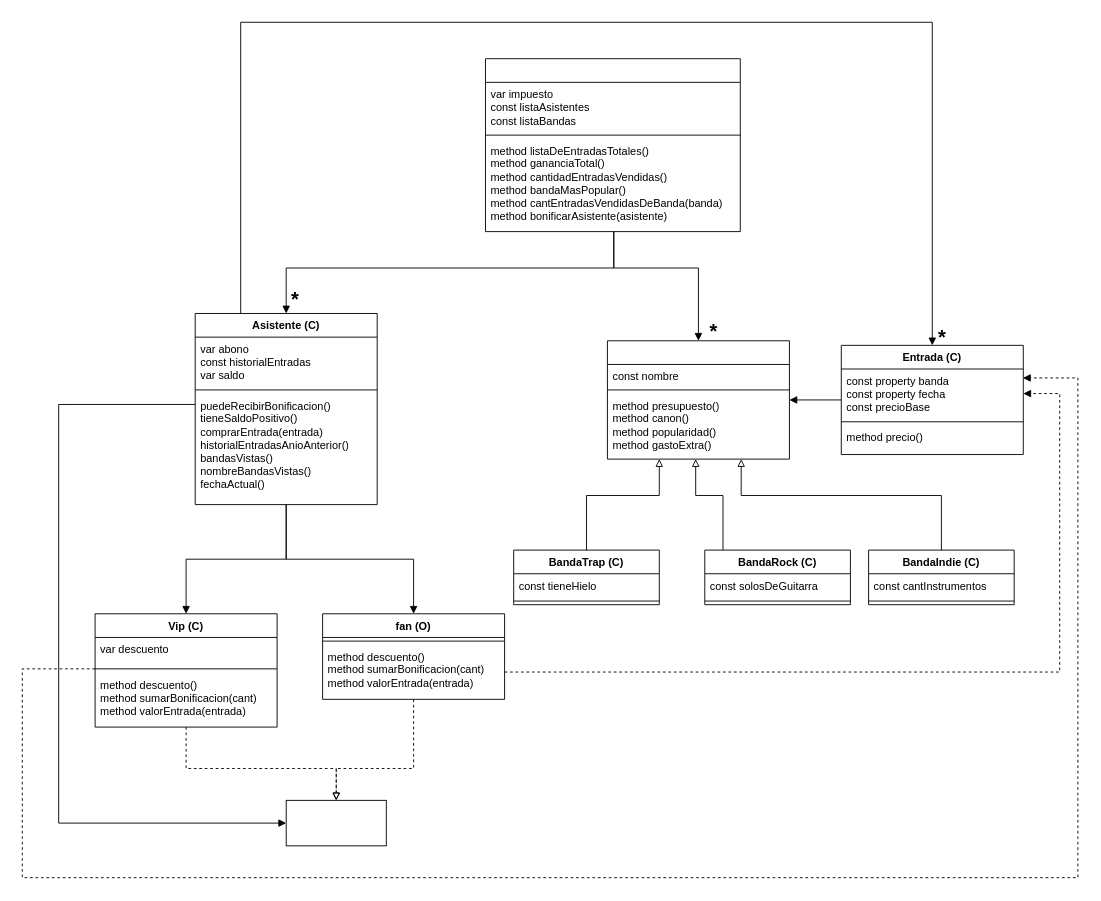
The diagram is 1101 pixels wide and 901 high, and some of its shapes have lost their labels. The box of each missing label's shape, as (x1, y1, x2, y2) in pixels:
Banda (A): (607, 340, 789, 459)
productora (O): (485, 58, 740, 232)
«interface» Abono: (285, 799, 386, 846)
